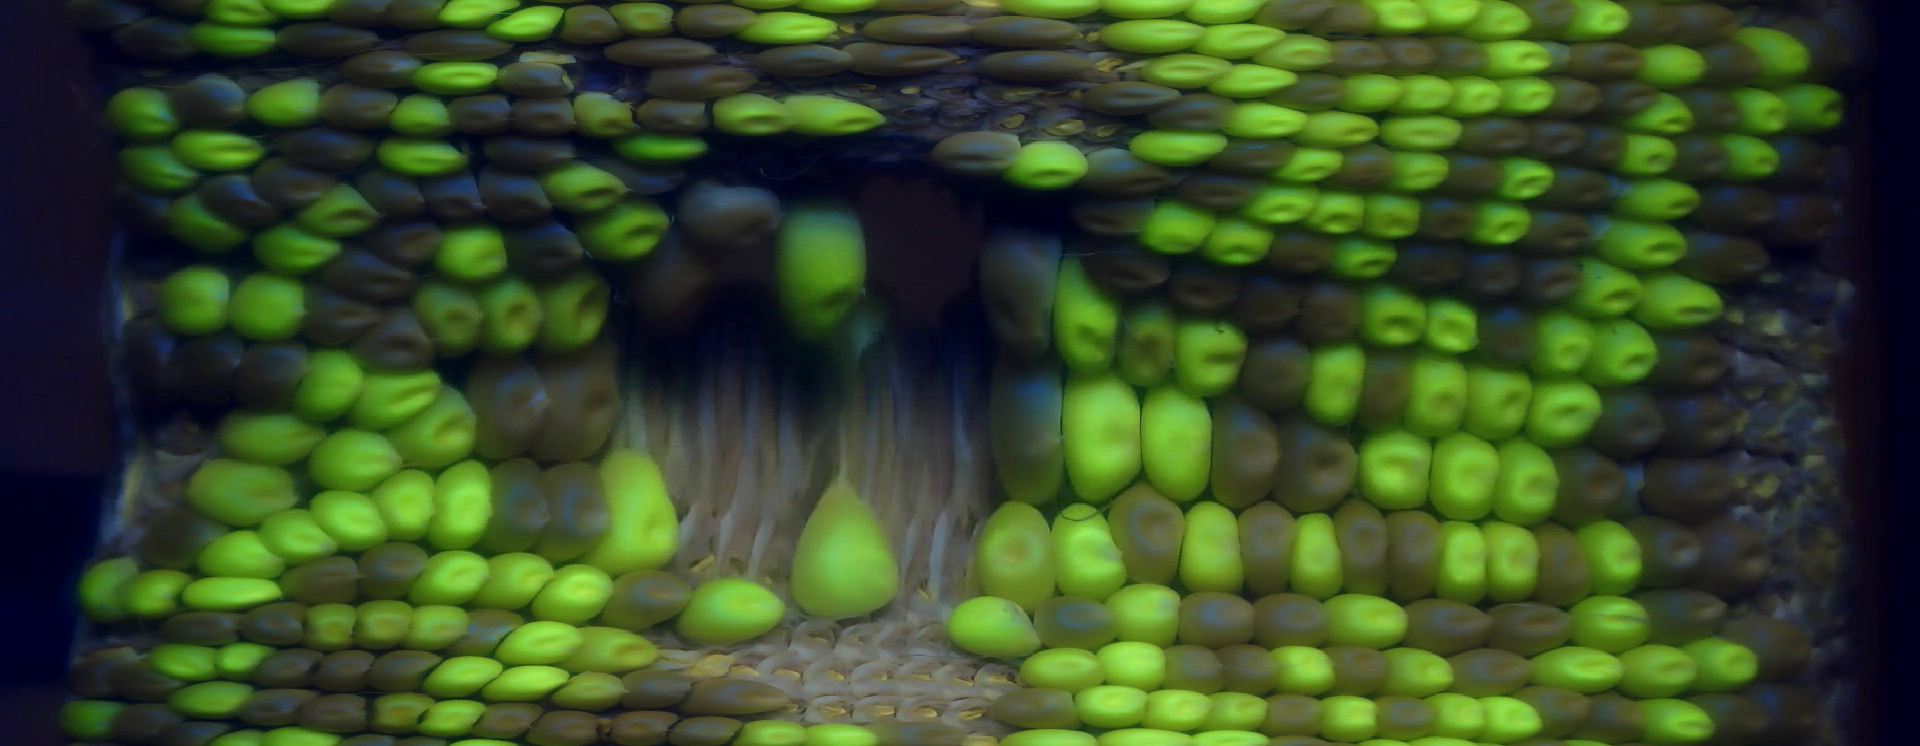fluorescent: (790, 483, 900, 625), (778, 197, 874, 338), (1056, 371, 1141, 512), (593, 451, 681, 575), (1138, 383, 1218, 511), (967, 500, 1063, 605), (1051, 243, 1123, 372), (185, 457, 305, 524), (1047, 507, 1130, 600), (684, 576, 791, 644), (1427, 439, 1509, 526), (1167, 314, 1251, 397), (1177, 507, 1250, 603), (218, 403, 329, 464), (1474, 510, 1547, 604), (534, 268, 612, 354), (1520, 375, 1604, 450), (528, 565, 618, 633), (1319, 589, 1418, 650), (157, 272, 241, 343), (1300, 342, 1369, 428), (164, 189, 249, 257), (1288, 512, 1356, 597), (1496, 443, 1561, 530), (1358, 428, 1427, 510), (305, 491, 393, 555), (478, 279, 544, 363), (231, 269, 307, 342), (1640, 269, 1724, 334), (1583, 318, 1653, 397), (291, 347, 362, 423), (1462, 363, 1533, 439), (1558, 594, 1653, 649), (351, 371, 443, 428), (582, 205, 673, 260), (489, 617, 589, 668), (564, 624, 658, 677), (309, 428, 397, 484), (1371, 643, 1464, 696), (947, 597, 1033, 653), (1406, 356, 1469, 432), (396, 398, 473, 461), (1738, 27, 1815, 89), (197, 538, 287, 592), (780, 89, 880, 137), (414, 285, 482, 355), (175, 129, 273, 176), (111, 142, 200, 195), (1624, 695, 1718, 744), (1357, 285, 1427, 352), (1577, 527, 1647, 593), (378, 473, 437, 551), (471, 552, 551, 610), (1618, 646, 1701, 699), (1123, 303, 1174, 390), (411, 549, 486, 608), (76, 561, 142, 627), (1438, 523, 1489, 608), (1145, 198, 1217, 258), (1010, 138, 1089, 194), (440, 220, 508, 283), (170, 675, 262, 722), (1615, 176, 1704, 224), (1128, 127, 1229, 169), (426, 650, 504, 704), (1682, 638, 1764, 690), (1536, 309, 1596, 379), (256, 225, 339, 274), (1251, 37, 1349, 78), (711, 96, 798, 142), (1106, 588, 1180, 642), (441, 467, 490, 549), (299, 189, 384, 235), (1533, 646, 1626, 688), (1416, 292, 1477, 356), (376, 134, 468, 176), (1221, 99, 1309, 143), (1138, 687, 1218, 735), (256, 507, 331, 559), (1269, 639, 1332, 699), (544, 165, 620, 216), (105, 85, 179, 136), (1476, 696, 1554, 744), (1491, 149, 1558, 206), (1600, 219, 1682, 265), (1641, 44, 1713, 96), (1362, 194, 1429, 247), (736, 10, 838, 45), (1577, 255, 1633, 318), (1210, 216, 1277, 268), (58, 693, 130, 742), (1140, 53, 1224, 94), (1332, 235, 1402, 285), (1211, 60, 1299, 99), (1314, 691, 1386, 739), (389, 87, 456, 138), (1380, 152, 1455, 197), (1021, 650, 1104, 691), (349, 600, 418, 649), (1382, 118, 1468, 157), (1251, 180, 1318, 230), (481, 664, 566, 703), (407, 603, 475, 650), (1205, 682, 1273, 730), (491, 2, 564, 47), (1074, 682, 1147, 726), (1420, 695, 1491, 740), (149, 641, 224, 684), (182, 579, 279, 612), (122, 570, 185, 619), (1566, 1, 1633, 47), (1469, 1, 1540, 44), (1195, 23, 1281, 59), (1467, 202, 1532, 249), (620, 131, 715, 162), (189, 24, 277, 58), (296, 601, 359, 648), (1490, 37, 1550, 85), (249, 85, 318, 125), (200, 1, 283, 34), (1308, 194, 1374, 235), (801, 717, 893, 746), (567, 96, 636, 135), (1277, 149, 1346, 189), (1735, 87, 1782, 145), (1097, 642, 1160, 685), (1449, 73, 1502, 122), (415, 62, 497, 94), (611, 1, 680, 39), (1788, 85, 1848, 127), (1104, 21, 1194, 49), (994, 1, 1104, 23), (1000, 728, 1128, 746), (1644, 91, 1693, 138), (429, 1, 522, 26), (1367, 1, 1430, 37), (1629, 138, 1682, 180), (1400, 76, 1450, 120), (1347, 78, 1411, 113), (1430, 1, 1485, 40), (1307, 111, 1374, 143), (425, 699, 481, 737), (744, 717, 814, 746), (216, 646, 277, 677), (261, 724, 349, 746), (1502, 76, 1551, 114), (1191, 1, 1265, 24), (1103, 1, 1202, 17), (263, 1, 336, 17)
nonfluorescent: (991, 358, 1074, 502), (977, 223, 1060, 355), (467, 345, 550, 465), (1276, 419, 1368, 521), (542, 344, 617, 461), (481, 451, 556, 559), (1108, 485, 1189, 584), (544, 465, 616, 563), (638, 239, 711, 334), (1210, 398, 1276, 502), (680, 186, 784, 247), (1622, 513, 1703, 592), (1327, 500, 1392, 597), (1697, 521, 1776, 600), (1779, 16, 1866, 87), (168, 332, 250, 405), (1727, 615, 1813, 684), (496, 220, 590, 283), (111, 322, 169, 424), (1681, 224, 1776, 285), (1236, 334, 1309, 412), (1378, 512, 1442, 599), (598, 571, 692, 628), (146, 507, 228, 573), (1556, 446, 1624, 526), (318, 247, 418, 301), (971, 47, 1095, 89), (1644, 462, 1742, 516), (298, 285, 382, 348), (1236, 505, 1298, 588), (1038, 598, 1129, 653), (410, 167, 489, 230), (1598, 397, 1675, 461), (1357, 350, 1416, 434), (845, 40, 973, 78), (1398, 598, 1490, 650), (355, 164, 433, 225), (684, 674, 795, 717), (1324, 641, 1402, 701), (1664, 390, 1736, 454), (356, 544, 435, 603), (1082, 156, 1178, 203), (1513, 682, 1596, 737), (1533, 521, 1591, 599), (1633, 592, 1741, 633), (203, 179, 288, 232), (1299, 279, 1369, 343), (277, 127, 377, 171), (110, 22, 200, 71), (353, 314, 437, 365), (1656, 334, 1729, 393), (239, 344, 302, 412), (647, 66, 759, 104), (1488, 604, 1580, 650), (475, 171, 555, 224), (1253, 595, 1336, 646), (1236, 274, 1307, 333), (1771, 189, 1840, 247), (1086, 243, 1166, 294), (370, 223, 451, 273), (1693, 695, 1772, 746), (936, 134, 1026, 178), (251, 160, 339, 206), (280, 562, 365, 609), (1758, 681, 1820, 745), (970, 12, 1079, 48), (454, 609, 528, 661), (1395, 240, 1476, 288), (274, 18, 391, 51), (1447, 650, 1534, 695), (600, 36, 719, 67), (1176, 168, 1259, 213), (1171, 260, 1239, 314), (1215, 641, 1284, 693), (1691, 185, 1769, 232), (239, 600, 311, 650), (613, 671, 696, 715), (1478, 307, 1533, 372), (1177, 599, 1260, 642), (1071, 198, 1160, 239), (1583, 688, 1644, 746), (163, 609, 247, 650), (407, 31, 517, 62), (365, 650, 444, 695), (178, 82, 256, 125), (1531, 211, 1594, 263), (1618, 1, 1685, 50), (1164, 643, 1227, 695), (324, 81, 402, 122), (115, 176, 167, 239), (756, 47, 851, 80), (988, 690, 1082, 723), (1460, 111, 1531, 154), (1678, 136, 1735, 189), (1160, 94, 1237, 134), (1547, 171, 1611, 218), (1698, 44, 1771, 86), (1091, 81, 1185, 113), (866, 13, 967, 43), (1373, 695, 1440, 739), (1452, 157, 1512, 206), (1680, 1, 1741, 49), (872, 717, 971, 746), (492, 135, 579, 168), (75, 653, 136, 699), (1580, 122, 1632, 176), (1572, 40, 1647, 78), (1271, 71, 1346, 109), (1273, 229, 1336, 273), (115, 657, 181, 698), (1464, 254, 1523, 300), (675, 4, 768, 33), (508, 100, 582, 137), (1220, 138, 1291, 176), (1522, 260, 1582, 304), (238, 692, 306, 730), (1269, 693, 1327, 737), (1429, 36, 1493, 76), (1342, 149, 1402, 192), (1776, 142, 1837, 184), (1524, 113, 1582, 157), (1419, 196, 1471, 245), (258, 649, 316, 692), (313, 650, 377, 688), (307, 691, 371, 729), (451, 97, 513, 135), (500, 59, 571, 92), (1543, 75, 1597, 118), (638, 104, 716, 134), (1384, 37, 1444, 75), (1689, 89, 1739, 135), (536, 709, 601, 744), (119, 703, 181, 739), (481, 702, 535, 742), (558, 9, 624, 40), (348, 51, 422, 80), (1331, 38, 1389, 73), (1605, 80, 1660, 116), (378, 1, 453, 27), (1524, 1, 1576, 38), (1266, 1, 1332, 29), (1329, 1, 1382, 33), (334, 1, 396, 24)
